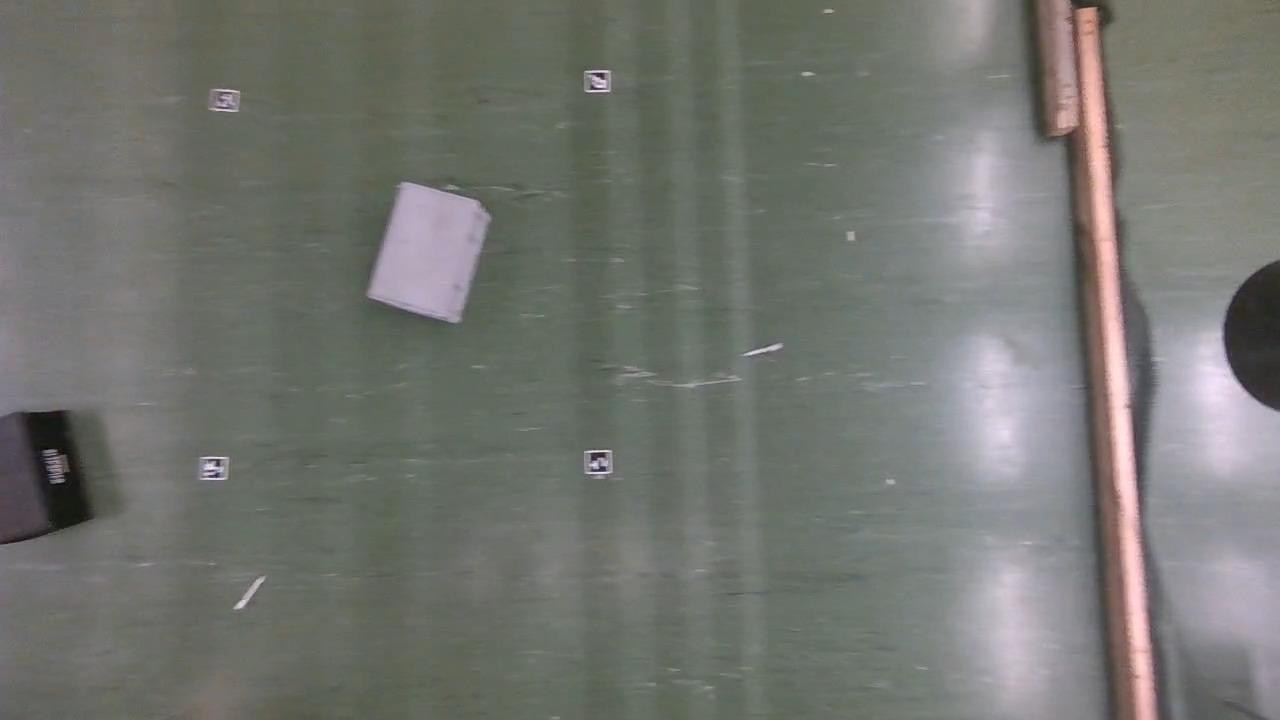probes: (232, 575, 265, 611), (741, 342, 782, 357)
rako: (367, 183, 490, 322), (0, 410, 98, 546)
